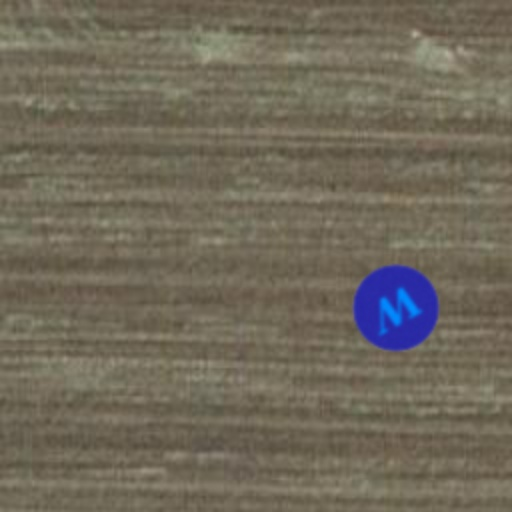circle: (336, 248, 456, 368)
